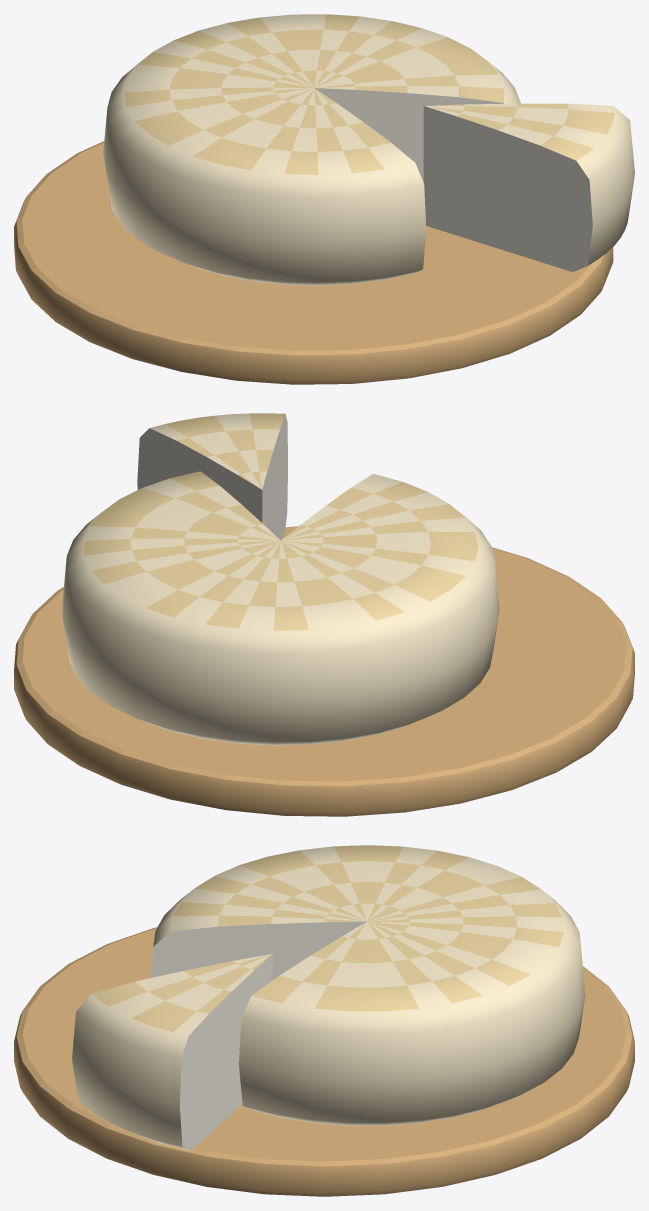
The model's file is queijo.glb.
3 views of the same model, one above another, from view 1: azimuth 30°, elevation 25°; view 2: azimuth 150°, elevation 25°; view 3: azimuth 270°, elevation 25° (orthographic). The views are drawn at different scales.
Parts seen in each view (by area): view 1: queijo; view 2: queijo; view 3: queijo.
Boxes of the visible parts, left/top/right/bottom form: queijo: left=14, top=14, right=634, bottom=384; queijo: left=14, top=413, right=634, bottom=816; queijo: left=14, top=845, right=634, bottom=1196.
Size of the model in its own units: 0.29 by 0.0815 by 0.29.
